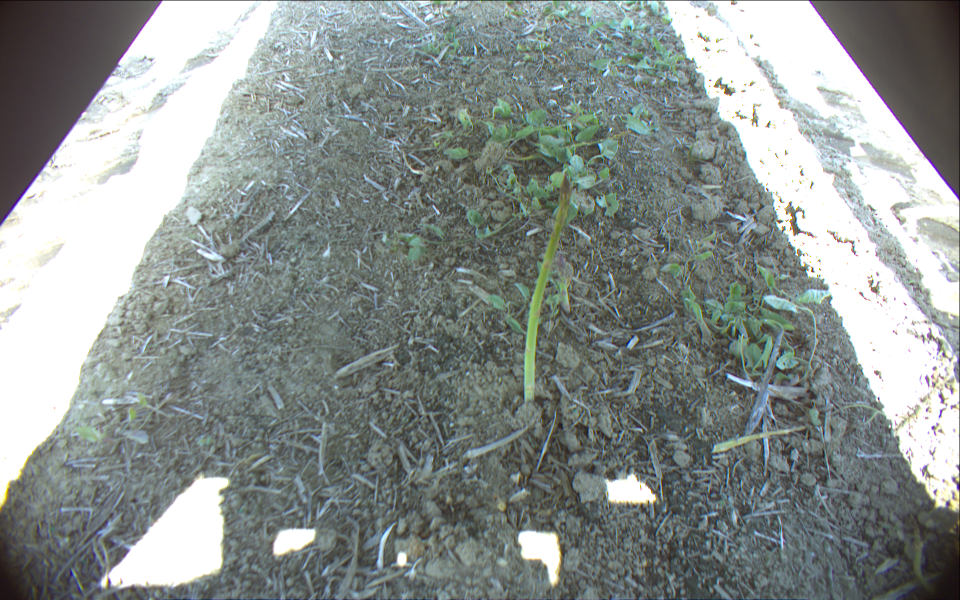aspa: (524, 176, 570, 402), (713, 427, 808, 455), (910, 528, 936, 600)
